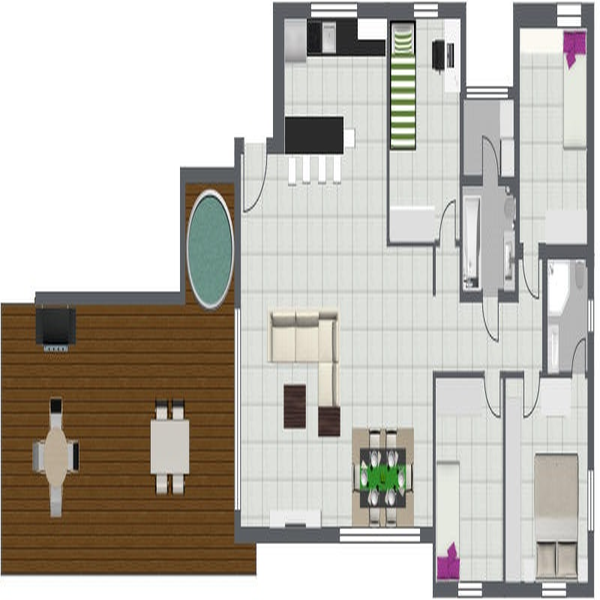door: (240, 150, 265, 220), (482, 368, 507, 422), (481, 288, 503, 347), (520, 251, 545, 302), (522, 369, 544, 423), (480, 133, 499, 187), (438, 199, 459, 247), (569, 339, 589, 376)
room: (512, 4, 592, 260), (502, 369, 586, 591), (387, 4, 463, 245), (430, 371, 508, 594), (275, 1, 384, 156), (460, 89, 520, 304), (542, 246, 600, 375)
wall: (586, 7, 595, 302), (36, 292, 184, 305), (273, 1, 285, 153), (236, 529, 341, 544), (357, 1, 415, 22), (514, 2, 556, 30), (432, 374, 437, 581), (484, 582, 542, 599), (589, 337, 596, 471), (387, 19, 391, 251), (182, 168, 242, 182), (502, 375, 506, 583), (181, 165, 185, 301), (438, 4, 469, 19), (283, 3, 311, 18), (588, 536, 595, 592), (433, 583, 457, 597), (567, 584, 597, 594), (435, 369, 482, 375)
window: (343, 530, 423, 546), (316, 1, 356, 18), (412, 3, 440, 24), (460, 581, 484, 600), (589, 477, 597, 533), (542, 582, 564, 600), (587, 304, 597, 329)
